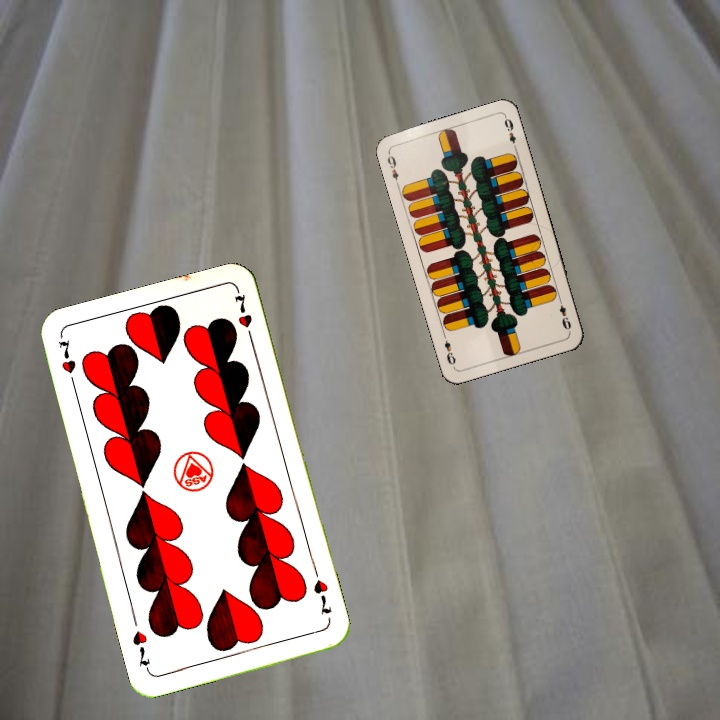E9: (554, 294, 574, 334), (383, 148, 402, 188)
H7: (54, 333, 79, 392), (309, 575, 334, 617)
